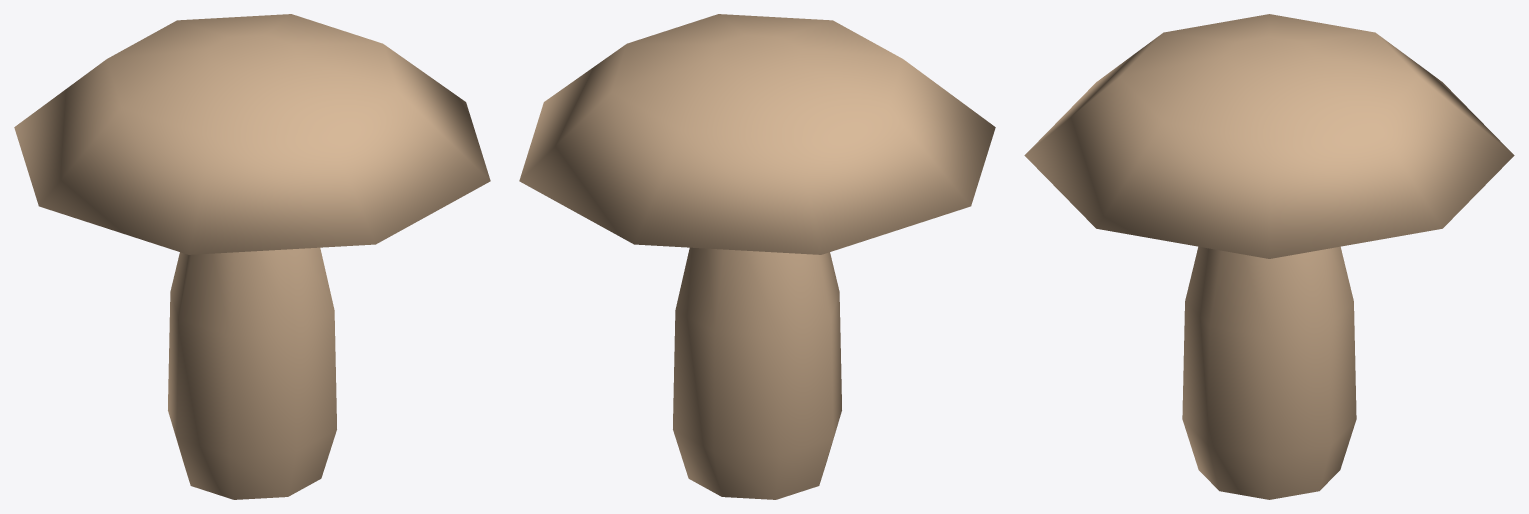
Rendered from shroom_TEST.glb.
3 views of the same model, side by side, from view 1: azimuth 30°, elevation 25°; view 2: azimuth 150°, elevation 25°; view 3: azimuth 270°, elevation 25° (orthographic).
Visible parts, largest first — view 1: mushroom; view 2: mushroom; view 3: mushroom.
Part boxes in pixels (bbox=[...]): mushroom: bbox=[14, 14, 490, 499]; mushroom: bbox=[519, 14, 995, 499]; mushroom: bbox=[1024, 14, 1514, 499].
Size of the model in its own units: 0.3483 by 0.3245 by 0.3483.
